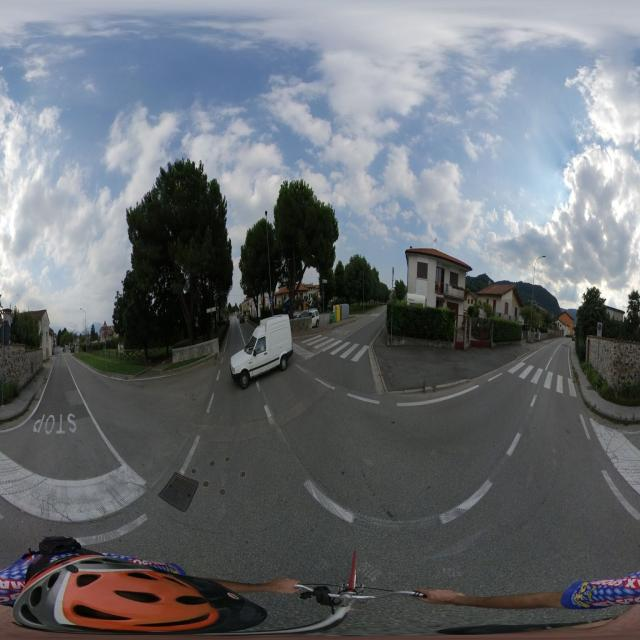forb_stopping: (104, 331, 108, 339)
